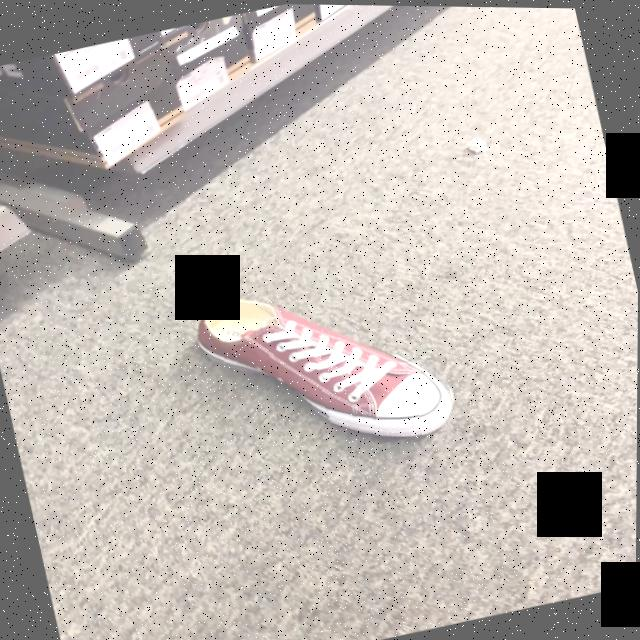shoe: (197, 294, 454, 438)
